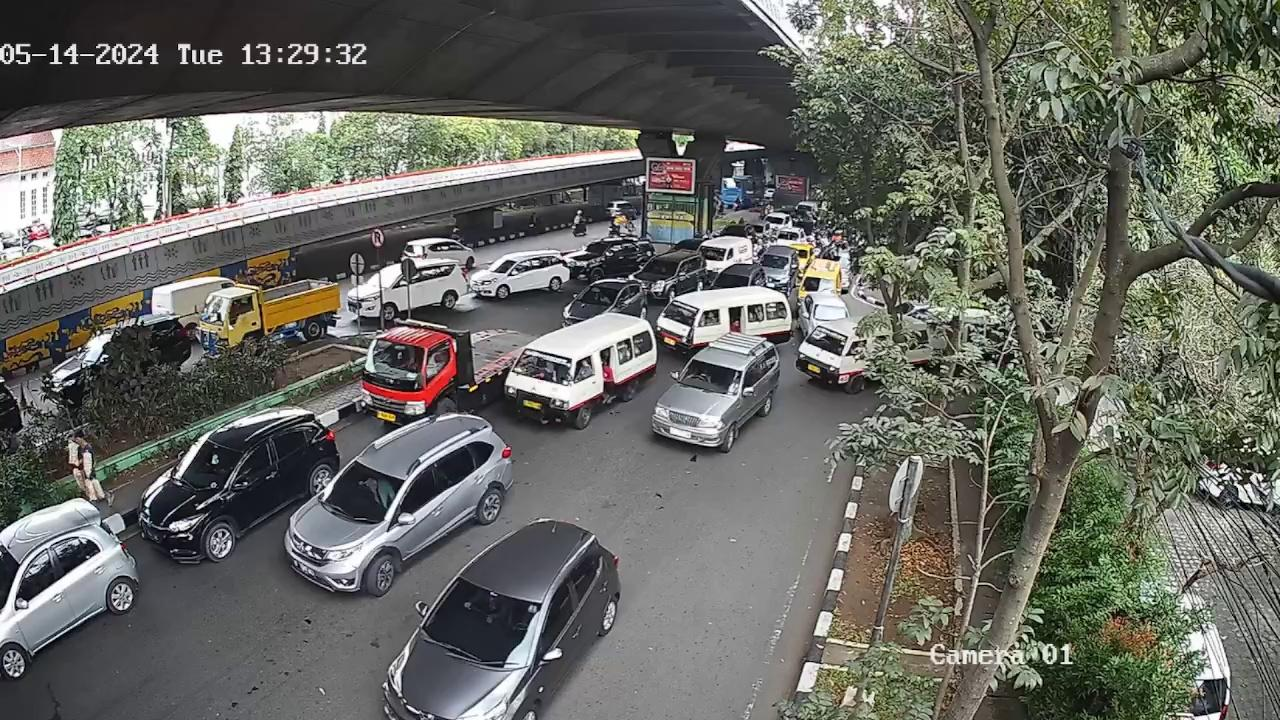pakai: (356, 471, 395, 508)
windshield: (426, 577, 552, 666), (317, 459, 408, 523), (168, 442, 243, 492), (370, 341, 446, 384), (681, 358, 744, 400), (512, 348, 571, 384)
